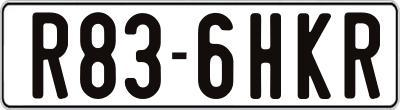3: (124, 13, 161, 100)
6: (197, 11, 234, 101)
8: (78, 11, 117, 98)
H: (248, 13, 279, 104)
K: (297, 10, 332, 101)
R: (31, 9, 72, 96), (344, 12, 383, 99)
